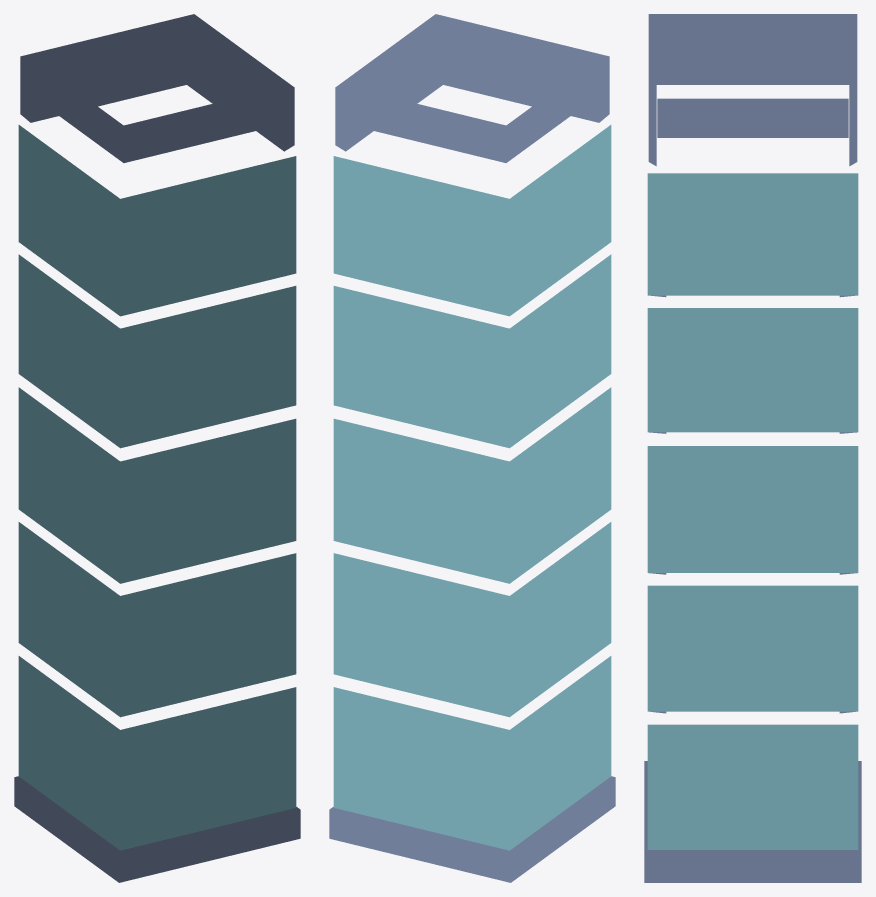
3 renders of one model, left to right at view 1: azimuth 30°, elevation 25°; view 2: azimuth 150°, elevation 25°; view 3: azimuth 270°, elevation 25°, orthographic. The views are drawn at different scales.
Visible parts, largest first — view 1: House.003; view 2: House.003; view 3: House.003.
Boxes of the visible parts, x1=… form: House.003: x1=14, y1=14, x2=300, y2=882; House.003: x1=329, y1=14, x2=615, y2=882; House.003: x1=644, y1=14, x2=861, y2=882.
Size of the model in its own units: 57.11 by 226 by 57.11.
